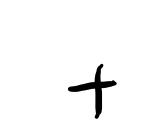plus: (68, 64, 118, 119)
